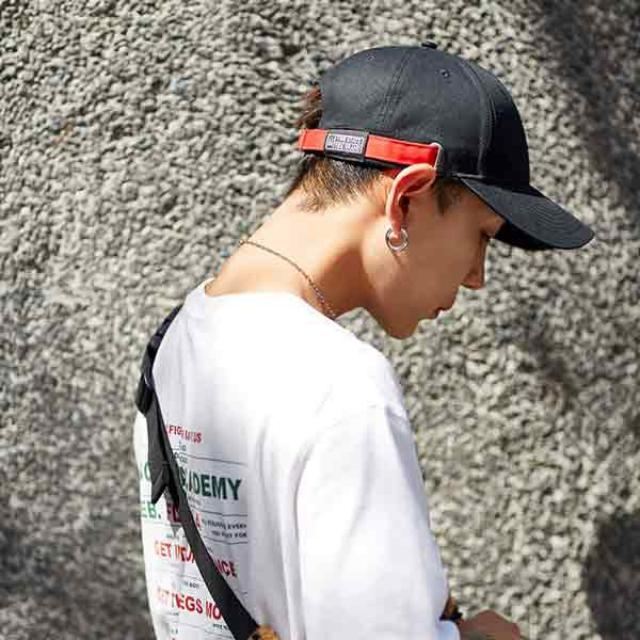Nonhelmet: (278, 26, 602, 348)
